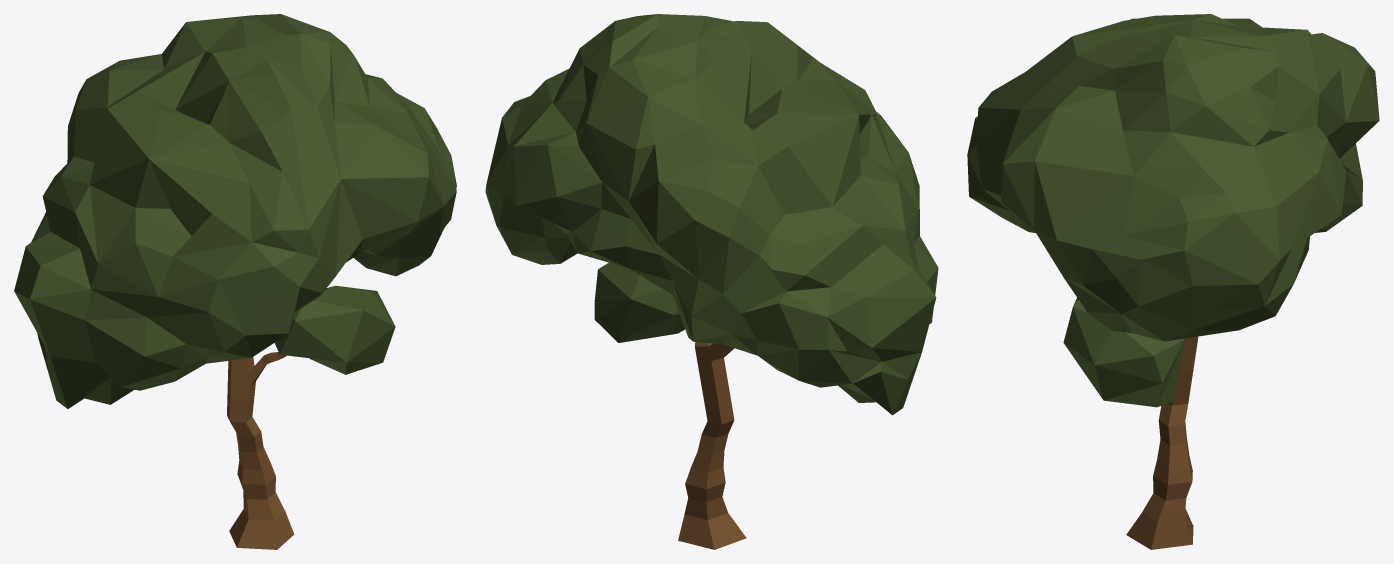
Rendered from tree2.glb.
The picture shows the model from 3 angles, left to right: view 1: azimuth 30°, elevation 25°; view 2: azimuth 150°, elevation 25°; view 3: azimuth 270°, elevation 25°; orthographic projection. The views are drawn at different scales.
Size of the model in its own units: 6.5 by 7.42 by 5.29.
